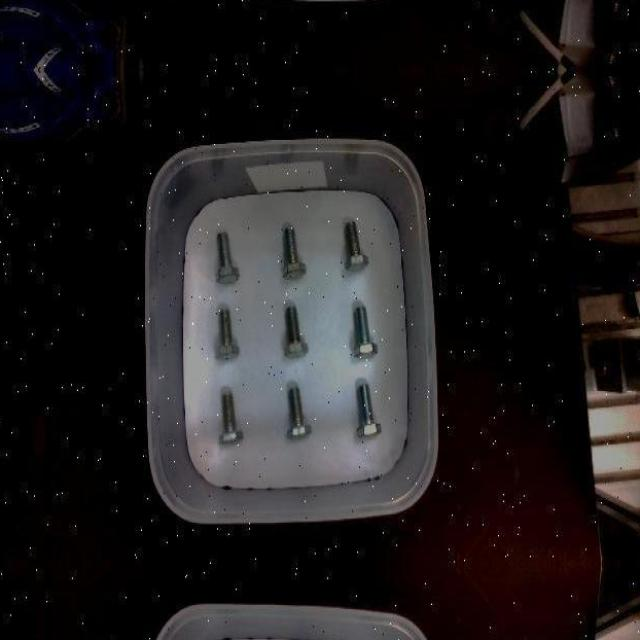screw: (218, 392, 244, 444), (283, 226, 308, 280), (216, 232, 241, 285), (354, 306, 379, 359), (215, 307, 240, 360), (357, 384, 382, 437), (344, 219, 369, 271), (284, 306, 309, 358), (288, 386, 313, 438)
